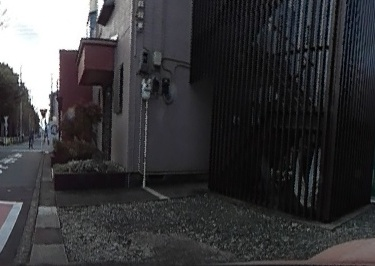person: (26, 128, 35, 148)
